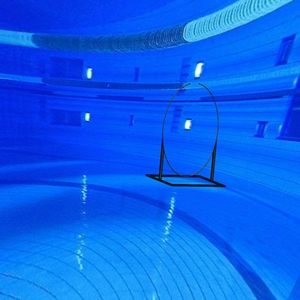circle: (145, 82, 226, 188)
